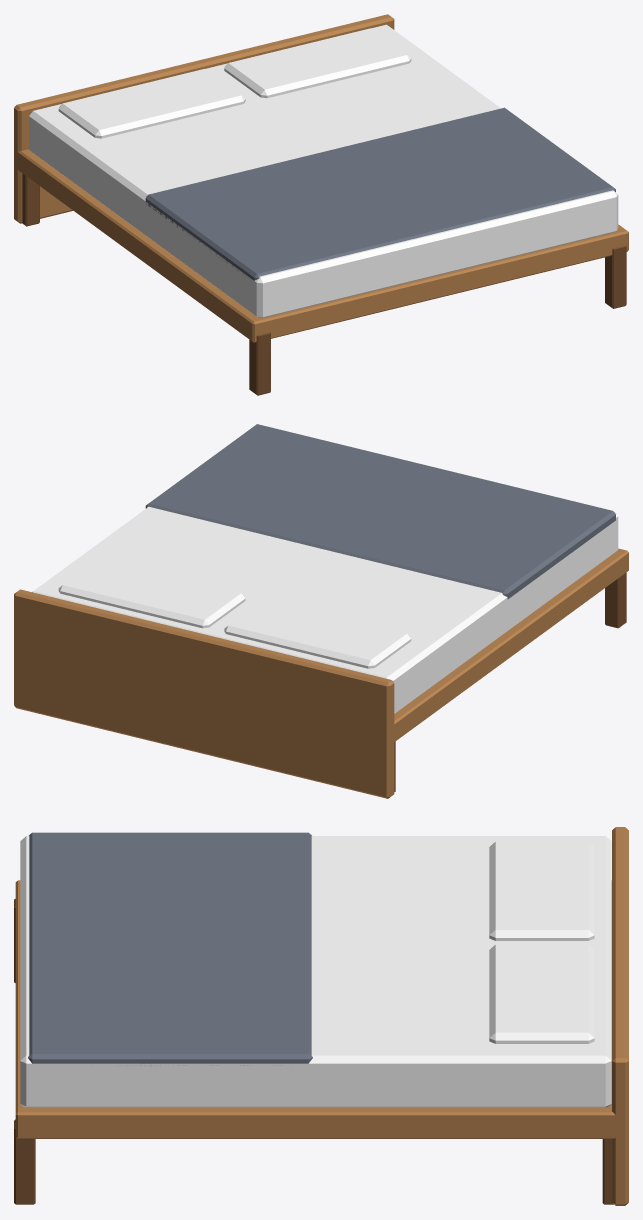
Rendered from bed-king-1800.glb.
3 renders of one model, top to bottom at view 1: azimuth 30°, elevation 25°; view 2: azimuth 150°, elevation 25°; view 3: azimuth 270°, elevation 25°, orthographic. The views are drawn at different scales.
Visible parts, largest first — view 1: bed-king-1800.tint, bed-king-1800.fabric, bed-king-1800.wood, bed-king-1800.woodDark; view 2: bed-king-1800.wood, bed-king-1800.tint, bed-king-1800.fabric, bed-king-1800.woodDark; view 3: bed-king-1800.tint, bed-king-1800.fabric, bed-king-1800.wood, bed-king-1800.woodDark.
Part boxes in pixels (<box>): bed-king-1800.tint: <box>29,24,618,317</box>; bed-king-1800.fabric: <box>145,107,615,280</box>; bed-king-1800.wood: <box>14,14,628,342</box>; bed-king-1800.woodDark: <box>22,173,626,395</box>; bed-king-1800.wood: <box>14,548,628,798</box>; bed-king-1800.tint: <box>32,425,618,713</box>; bed-king-1800.fabric: <box>145,424,615,599</box>; bed-king-1800.woodDark: <box>394,572,626,791</box>; bed-king-1800.tint: <box>20,836,611,1107</box>; bed-king-1800.fabric: <box>28,832,312,1065</box>; bed-king-1800.wood: <box>15,827,628,1205</box>; bed-king-1800.woodDark: <box>14,899,613,1204</box>.
Bounding box in the file's own units: 1.8 × 0.55 × 2.
